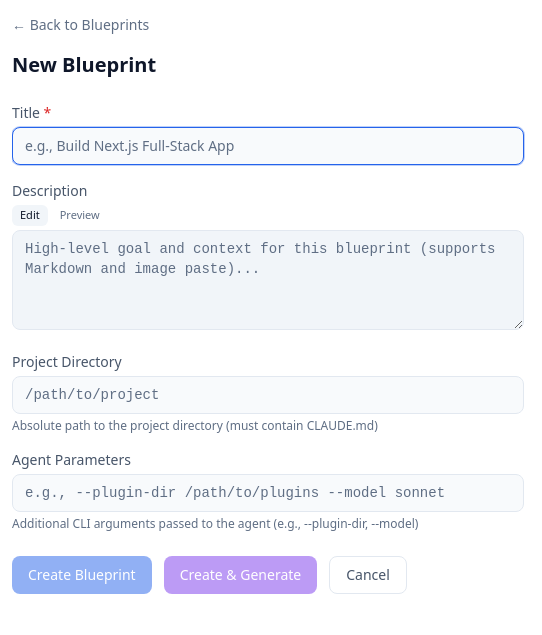
Test: NewBlueprintPage › shows CWD-specific error for directory validation failures
Step 1. Type "Bad CWD BP" into the field labelled "Title *" → (268, 146), box [12, 127, 524, 165]
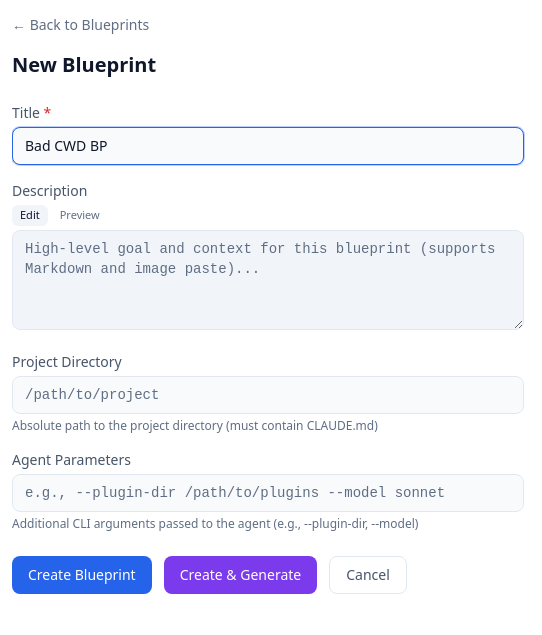
Step 2. Type "/bad/path" into the field labelled "Project Directory" → (268, 394), box [12, 376, 524, 414]
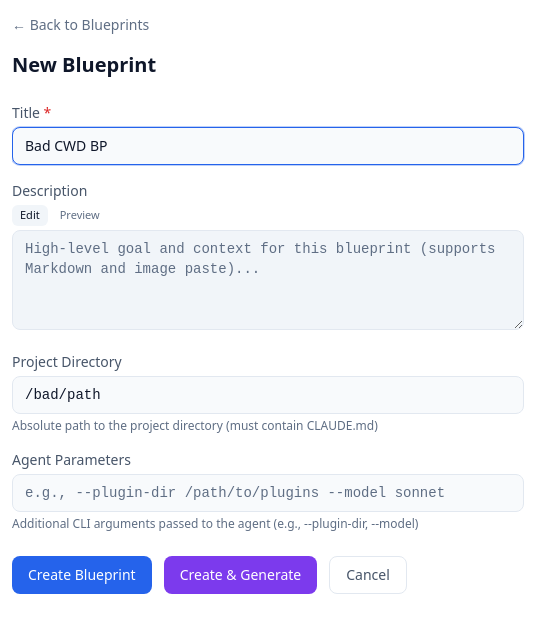
Step 3. Click the button "Create Blueprint" → (82, 574), box [12, 556, 152, 594]
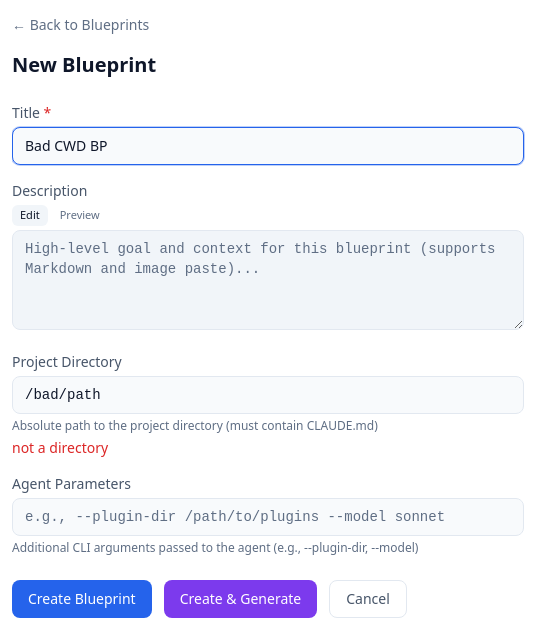
Expected: the text "not a directory" is shown, [12, 438, 108, 456]
